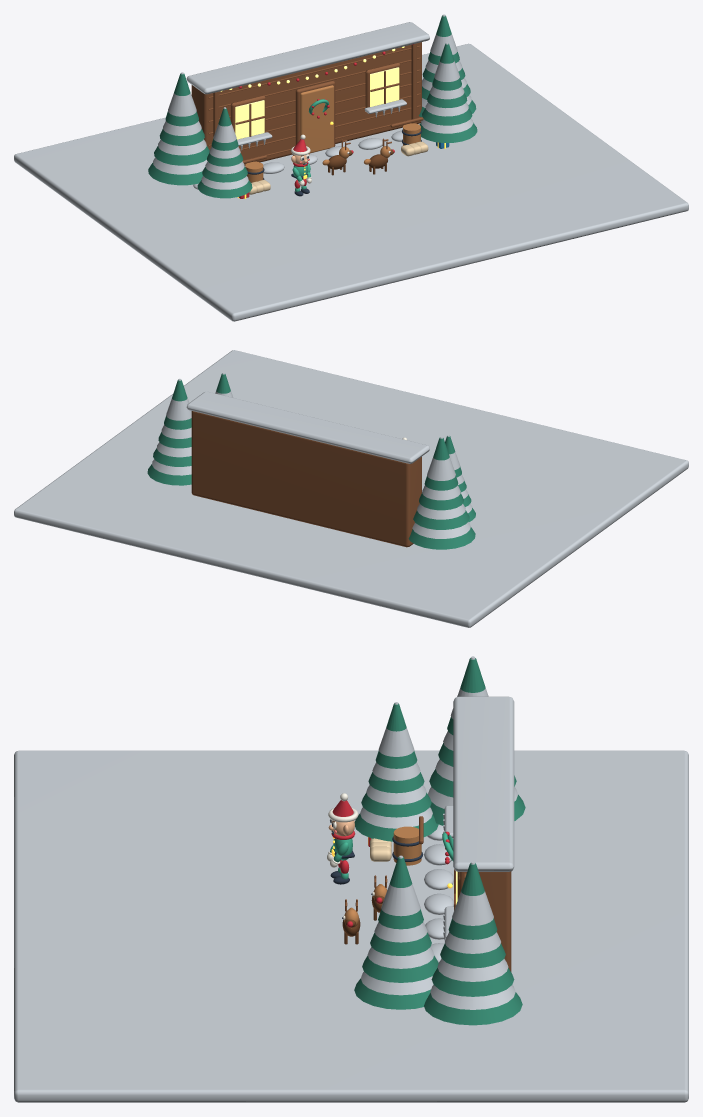
File: chapter-16.glb
The picture shows the model from 3 angles, top to bottom: view 1: azimuth 30°, elevation 25°; view 2: azimuth 150°, elevation 25°; view 3: azimuth 270°, elevation 25°; orthographic projection. The views are drawn at different scales.
Visible parts, largest first — view 1: Schneeboden, Werkstatt, Schneegesims, Wichteltür, Warmes Fenster, Warmes Fenster.001, Tannenzweig.008, Tannenzweig.009, Türrahmen, Tannenzweig.011, Tannenzweig.004, Schnee.011 (+6 smaller); view 2: Schneeboden, Werkstatt, Schneegesims, Tannenzweig.008, Tannenzweig.009, Tannenzweig.011, Schnee.008, Schnee.011, Tannenzweig.015, Tannenzweig.012, Tannenzweig.010, Schnee.009 (+1 smaller); view 3: Schneeboden, Schneegesims, Werkstatt, Tannenzweig.012, Tannenzweig.013, Tannenzweig.015, Schnee.012, Tannenzweig.005, Tannenzweig.004, Schnee.015, Tannenzweig.007, Schnee.013 (+16 smaller).
Part boxes in pixels (x1,y1,x2,y2): Schneeboden: [14, 43, 688, 321]; Werkstatt: [191, 42, 421, 165]; Schneegesims: [186, 22, 429, 94]; Wichteltür: [300, 85, 333, 153]; Warmes Fenster: [235, 100, 264, 139]; Warmes Fenster.001: [370, 67, 399, 106]; Tannenzweig.008: [148, 163, 202, 185]; Tannenzweig.009: [154, 146, 209, 165]; Türrahmen: [295, 81, 335, 146]; Tannenzweig.011: [165, 73, 198, 126]; Tannenzweig.004: [419, 122, 477, 142]; Schnee.011: [168, 72, 196, 116]; Schneeboden: [14, 350, 688, 627]; Werkstatt: [191, 411, 421, 547]; Schneegesims: [186, 391, 429, 463]; Tannenzweig.008: [408, 527, 475, 549]; Tannenzweig.009: [413, 510, 469, 529]; Tannenzweig.011: [424, 437, 458, 490]; Schnee.008: [412, 522, 470, 538]; Schnee.011: [427, 436, 455, 480]; Tannenzweig.015: [164, 380, 191, 429]; Tannenzweig.012: [147, 464, 191, 485]; Tannenzweig.010: [419, 493, 463, 510]; Schnee.009: [417, 504, 465, 519]; Schneeboden: [14, 750, 688, 1102]; Schneegesims: [453, 696, 514, 871]; Werkstatt: [466, 871, 511, 971]; Tannenzweig.012: [424, 992, 522, 1025]; Tannenzweig.013: [431, 968, 514, 996]; Tannenzweig.015: [448, 863, 497, 939]; Schnee.012: [430, 985, 515, 1009]; Tannenzweig.005: [362, 955, 438, 982]; Tannenzweig.004: [354, 978, 430, 1009]; Schnee.015: [452, 861, 493, 925]; Tannenzweig.007: [378, 857, 423, 929]; Schnee.013: [437, 959, 508, 981].
Size of the model in its own units: 18 by 4.39 by 15.
